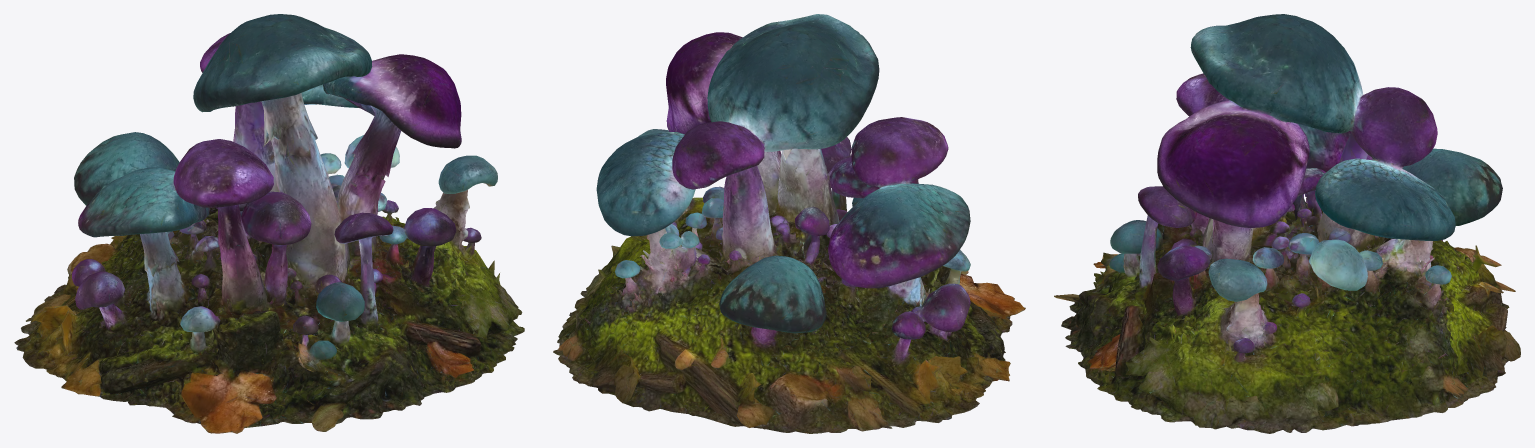
File: mushroom-grove.glb
The picture shows the model from 3 angles, left to right: view 1: azimuth 30°, elevation 25°; view 2: azimuth 150°, elevation 25°; view 3: azimuth 270°, elevation 25°; orthographic projection. The views are drawn at different scales.
Parts seen in each view (by area): view 1: Mesh_0; view 2: Mesh_0; view 3: Mesh_0.
Boxes of the visible parts, box(x1,y1,x2,y2) form: Mesh_0: box(14, 14, 524, 433); Mesh_0: box(553, 14, 1025, 433); Mesh_0: box(1054, 14, 1520, 433).
Bounding box in the file's own units: 1.91 × 1.32 × 1.8.
1 material, 1 textured.
